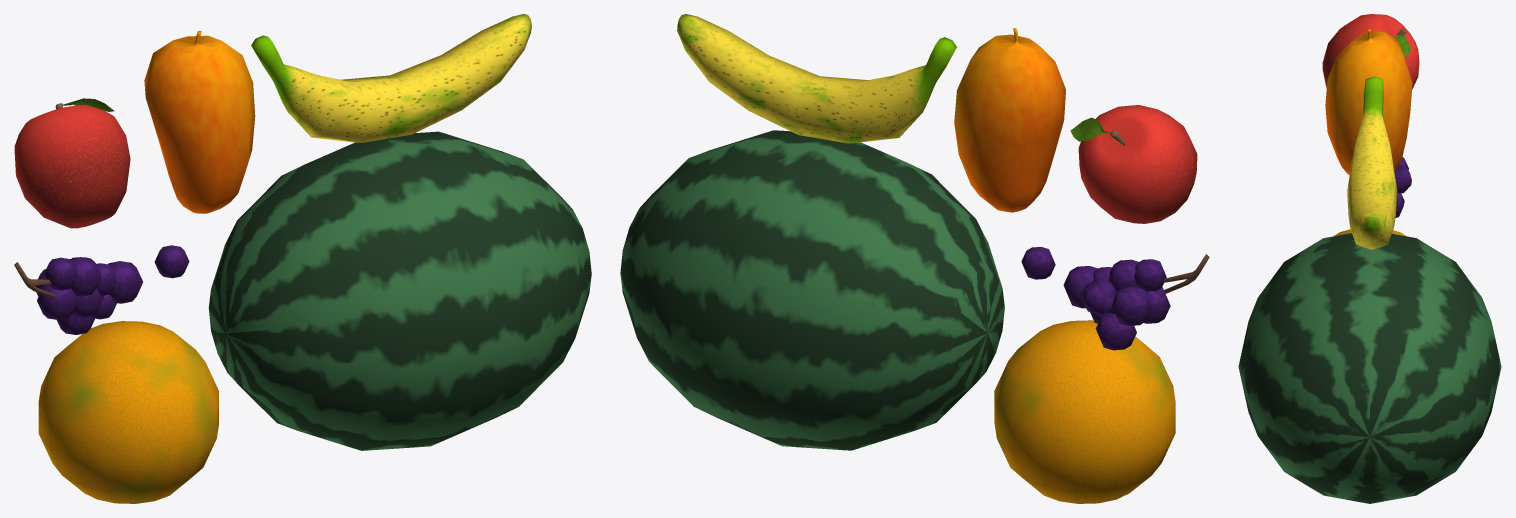
The model's file is food.glb.
The picture shows the model from 3 angles, left to right: view 1: azimuth 30°, elevation 25°; view 2: azimuth 150°, elevation 25°; view 3: azimuth 270°, elevation 25°; orthographic projection. The views are drawn at different scales.
Visible parts, largest first — view 1: watermelon_6, orangesimple_9, banana_0, mango_1, applered_4, raisinlow_7, grapesolo_5; view 2: watermelon_6, orangesimple_9, banana_0, mango_1, applered_4, raisinlow_7, grapesolo_5; view 3: watermelon_6, mango_1, banana_0, applered_4, raisinlow_7.
Boxes of the visible parts, x1,y1,x2,y2 form: watermelon_6: (208,131,591,450); orangesimple_9: (38,321,218,503); banana_0: (251,14,531,142); mango_1: (144,31,255,213); applered_4: (14,104,130,228); raisinlow_7: (35,257,142,334); grapesolo_5: (154,245,189,278); watermelon_6: (620,130,1004,450); orangesimple_9: (994,320,1175,503); banana_0: (677,14,956,143); mango_1: (954,28,1065,212); applered_4: (1078,105,1197,223); raisinlow_7: (1063,259,1170,350); grapesolo_5: (1021,247,1055,279); watermelon_6: (1238,233,1501,503); mango_1: (1325,28,1412,174); banana_0: (1347,76,1397,249); applered_4: (1322,14,1419,89); raisinlow_7: (1394,157,1411,217).
Size of the model in its own units: 7.03 by 5.39 by 3.42.
Materials: 3 (3 with a texture image).
